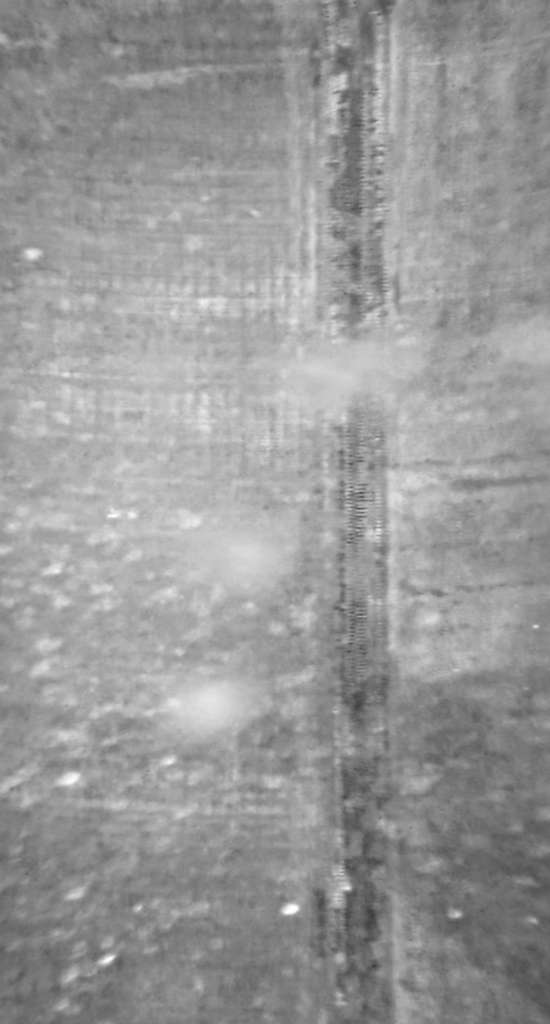splice: (302, 1, 404, 1024)
